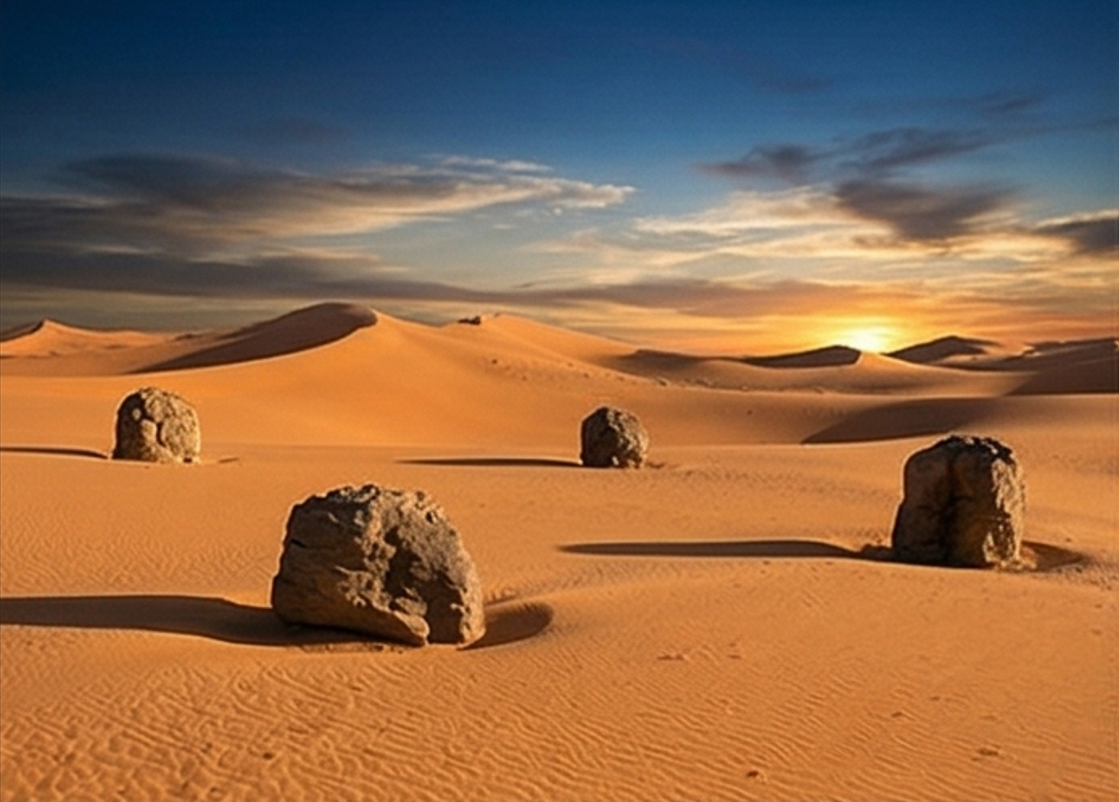rocks: (272, 484, 485, 645), (272, 484, 484, 645), (892, 435, 1024, 566), (113, 387, 199, 463), (581, 406, 649, 467)
